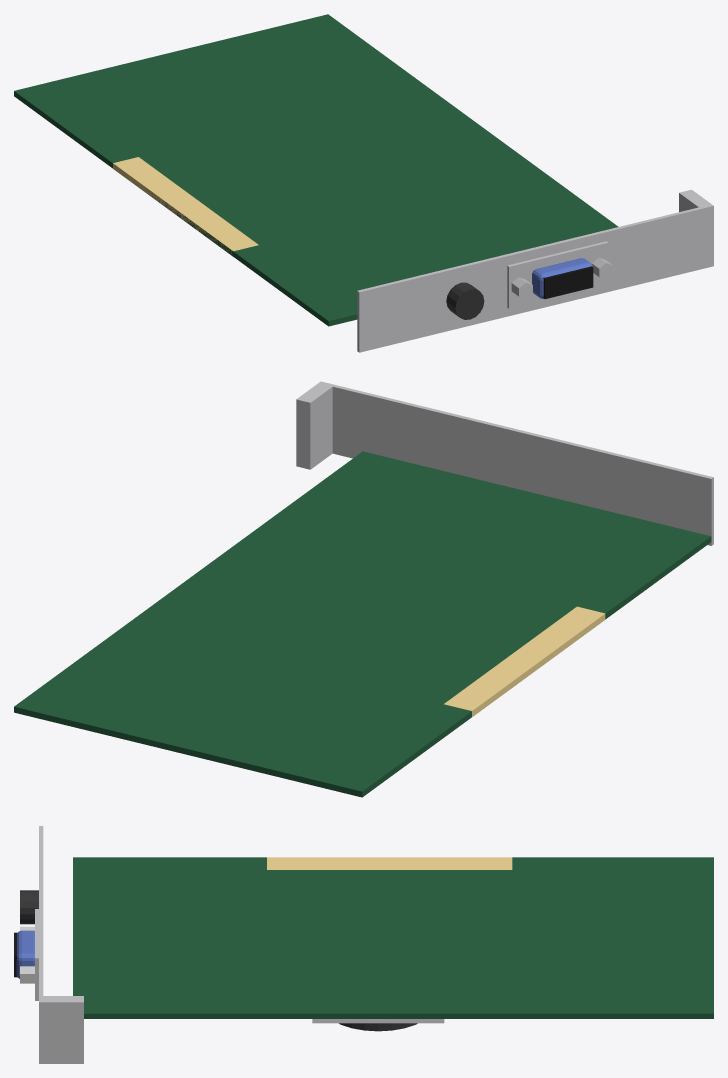
Rendered from card_agp_video.glb.
3 views of the same model, one above another, from view 1: azimuth 30°, elevation 25°; view 2: azimuth 150°, elevation 25°; view 3: azimuth 270°, elevation 25° (orthographic). The views are drawn at different scales.
Parts seen in each view (by area): view 1: card_video_body; view 2: card_video_body; view 3: card_video_body.
Boxes of the visible parts, <box> form: card_video_body: <box>14,14,713,352</box>; card_video_body: <box>14,381,713,797</box>; card_video_body: <box>14,826,713,1063</box>.
Bounding box in the file's own units: 0.115 × 0.0248 × 0.1856.
